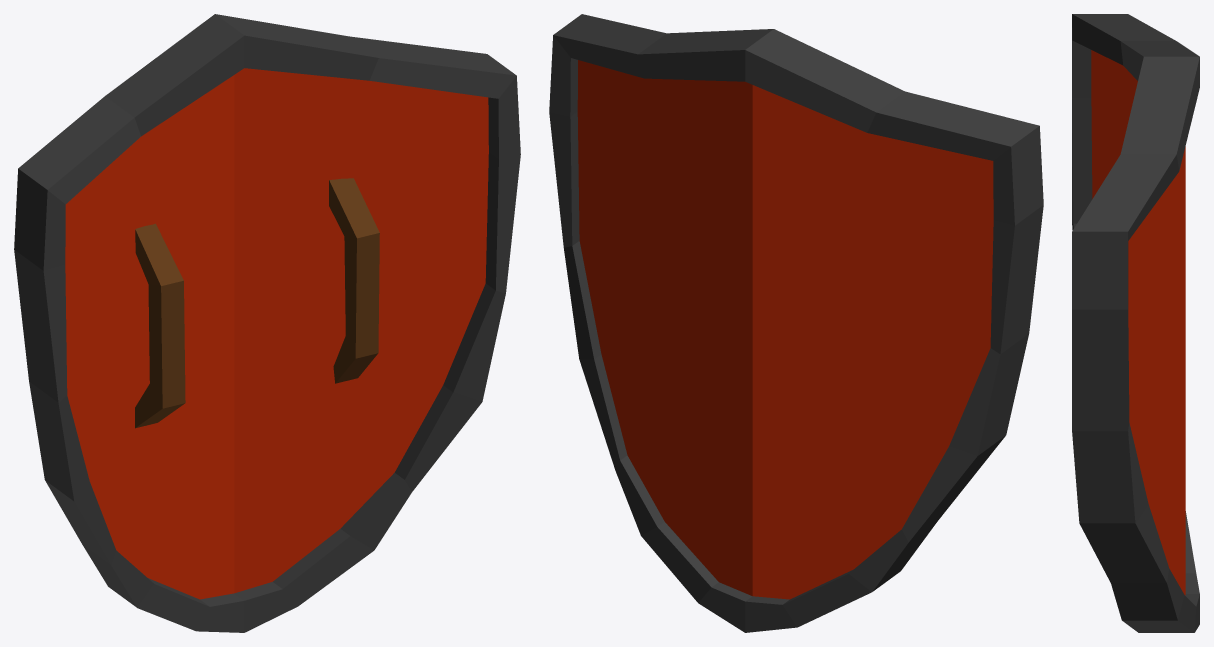
File: ShieldRed.fbx
3 views of the same model, side by side, from view 1: azimuth 30°, elevation 25°; view 2: azimuth 150°, elevation 25°; view 3: azimuth 270°, elevation 25° (orthographic). The views are drawn at different scales.
Visible parts, largest first — view 1: Plane, Plane.001; view 2: Plane; view 3: Plane.
Part boxes in pixels (x1,y1,x2,y2): Plane: (14, 14, 520, 632); Plane.001: (135, 178, 379, 428); Plane: (549, 14, 1043, 632); Plane: (1072, 14, 1199, 632).
Bounding box in the file's own units: 217 × 260 × 53.02.
1 material, 1 textured.
